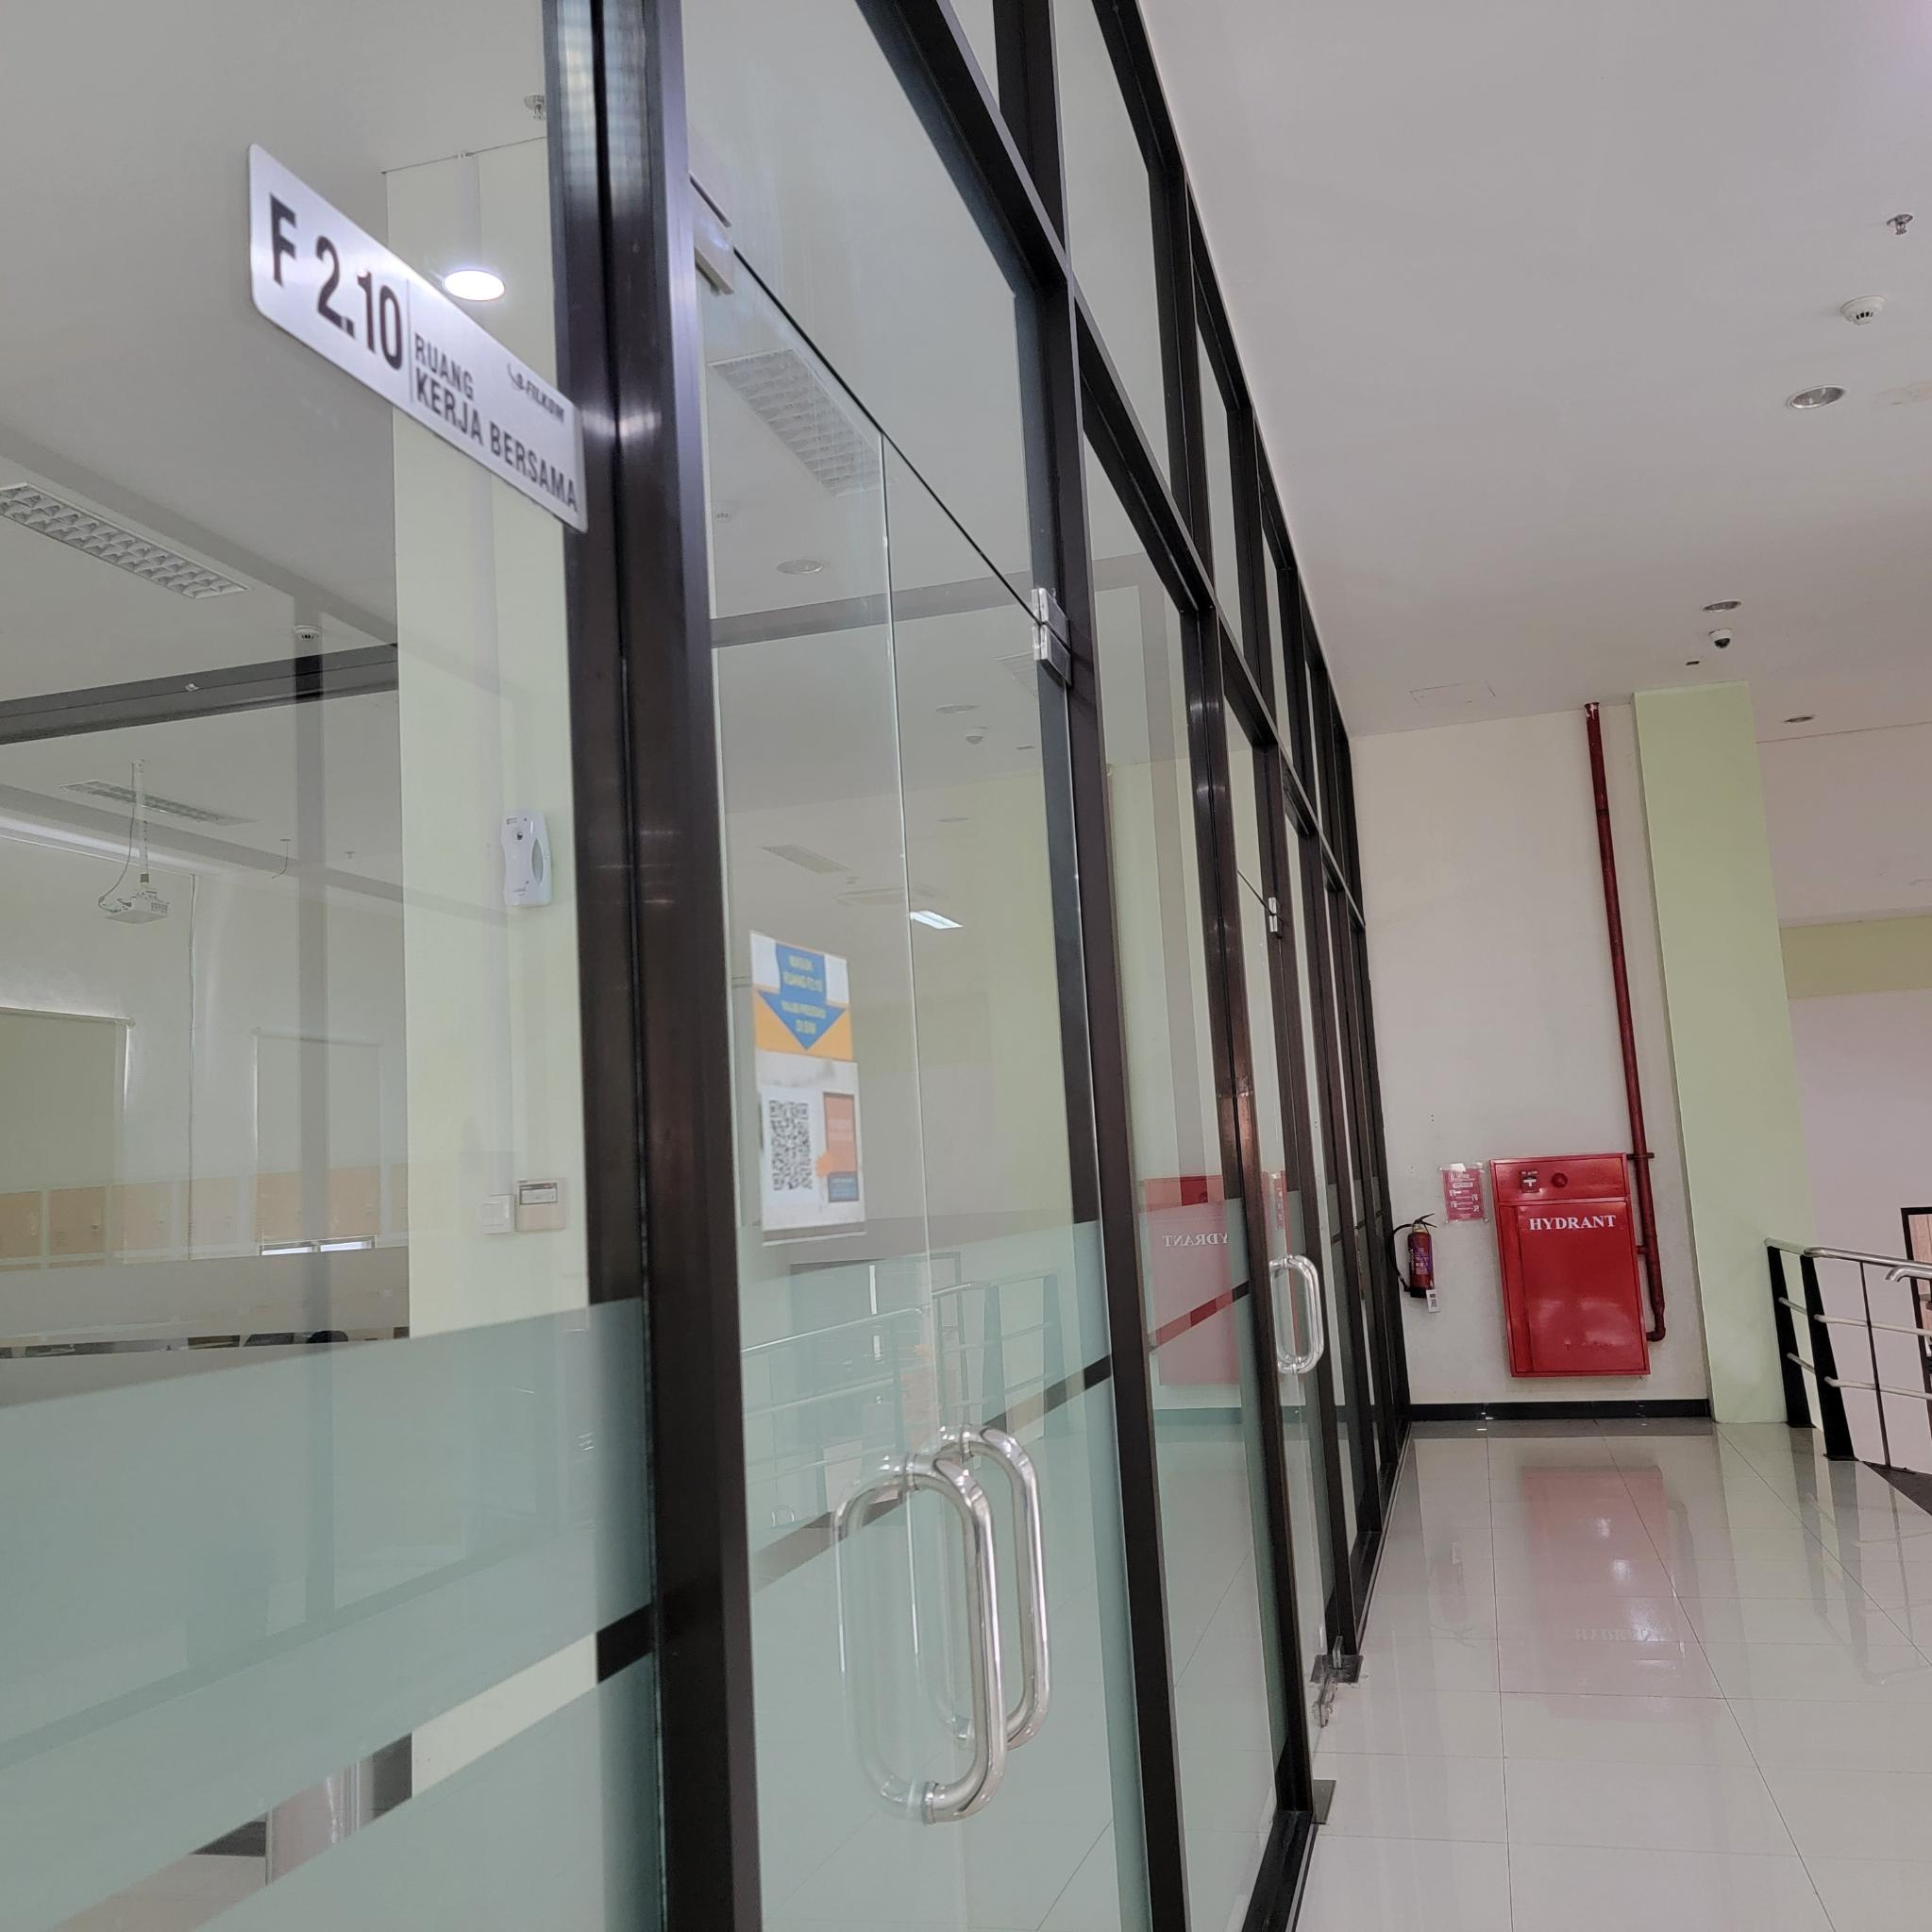plate: (248, 138, 587, 543)
